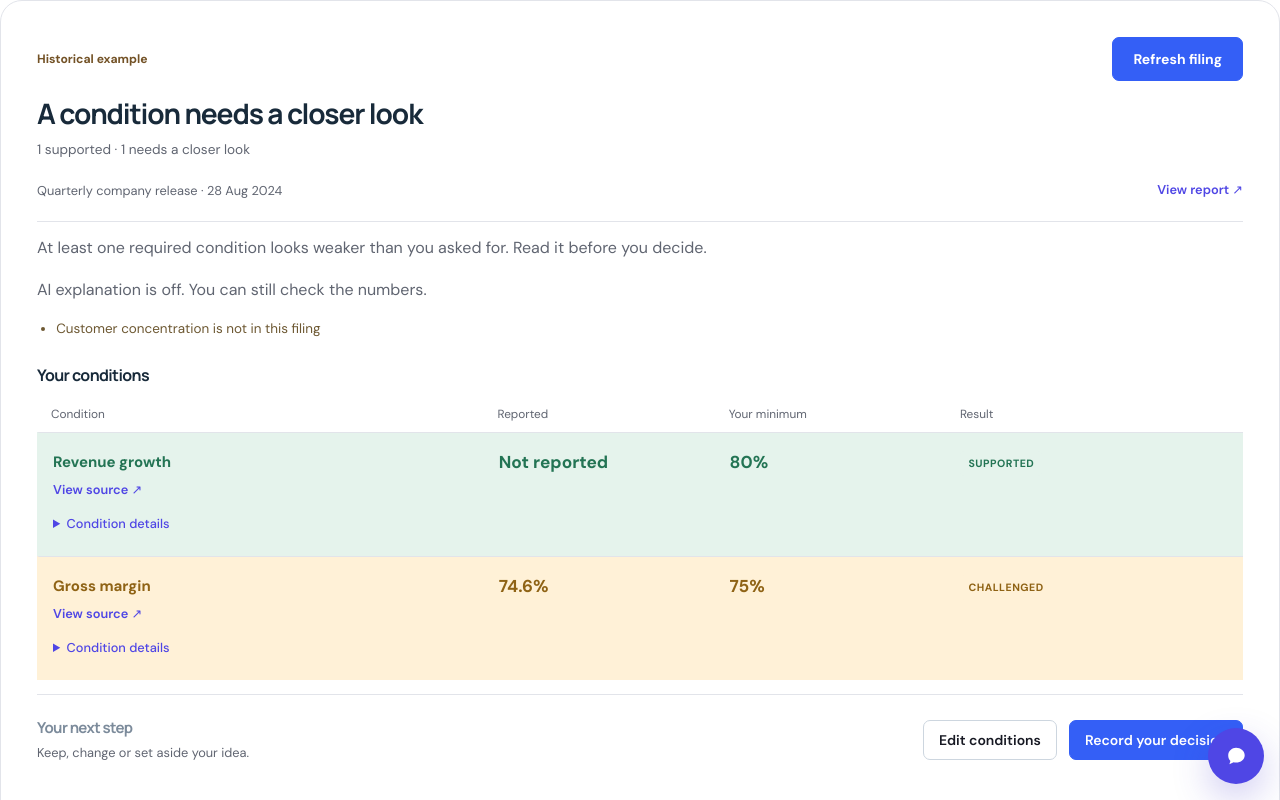
Test: evidence shows the result, findings and selected source before advanced controls
Check: the heading "A condition needs a closer look" is shown, box [37,94,422,132]
Check: the list item "Customer concentration is not in this filing" is shown, box [56,320,320,337]
Click the button with aria-label "View source for Gross margin" at point(98, 614), box [53,602,142,626]
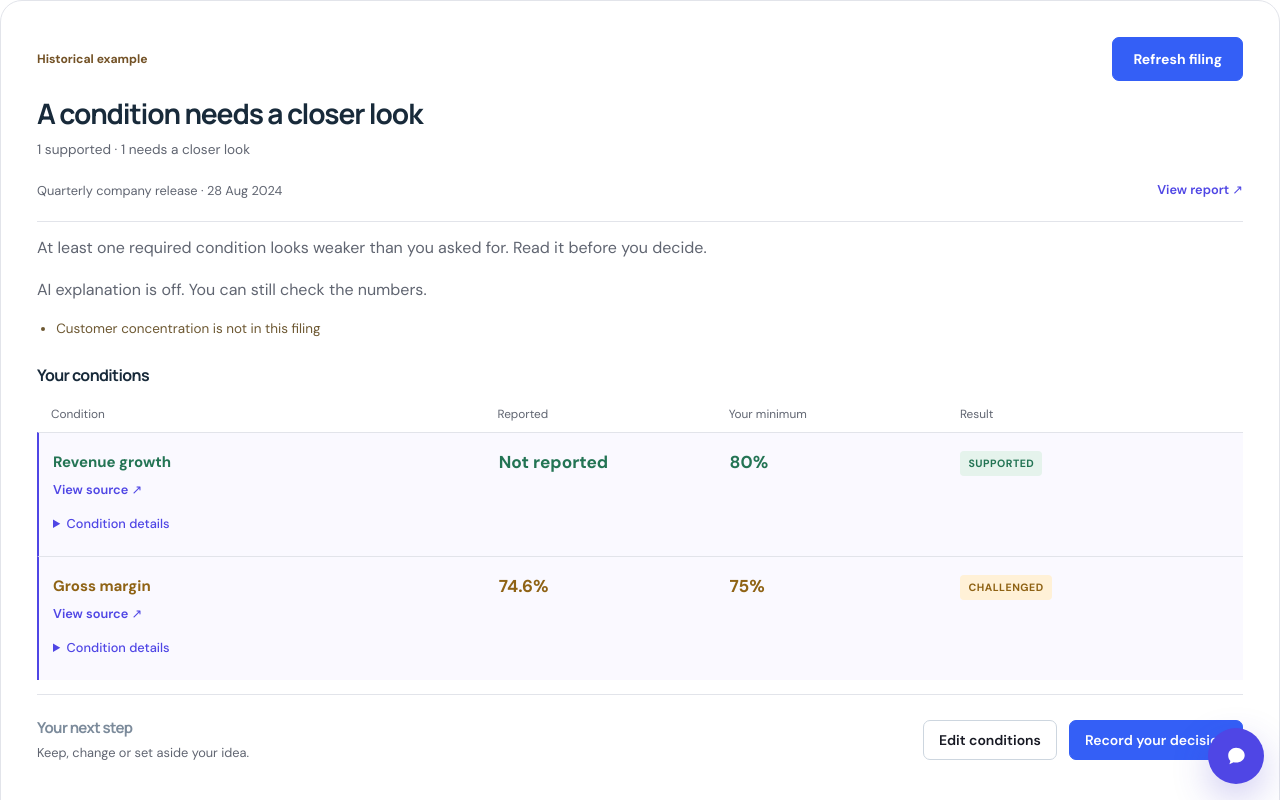
Click the heading "Condition details" below "Gross margin" at point(111, 650), box [53,638,170,662]
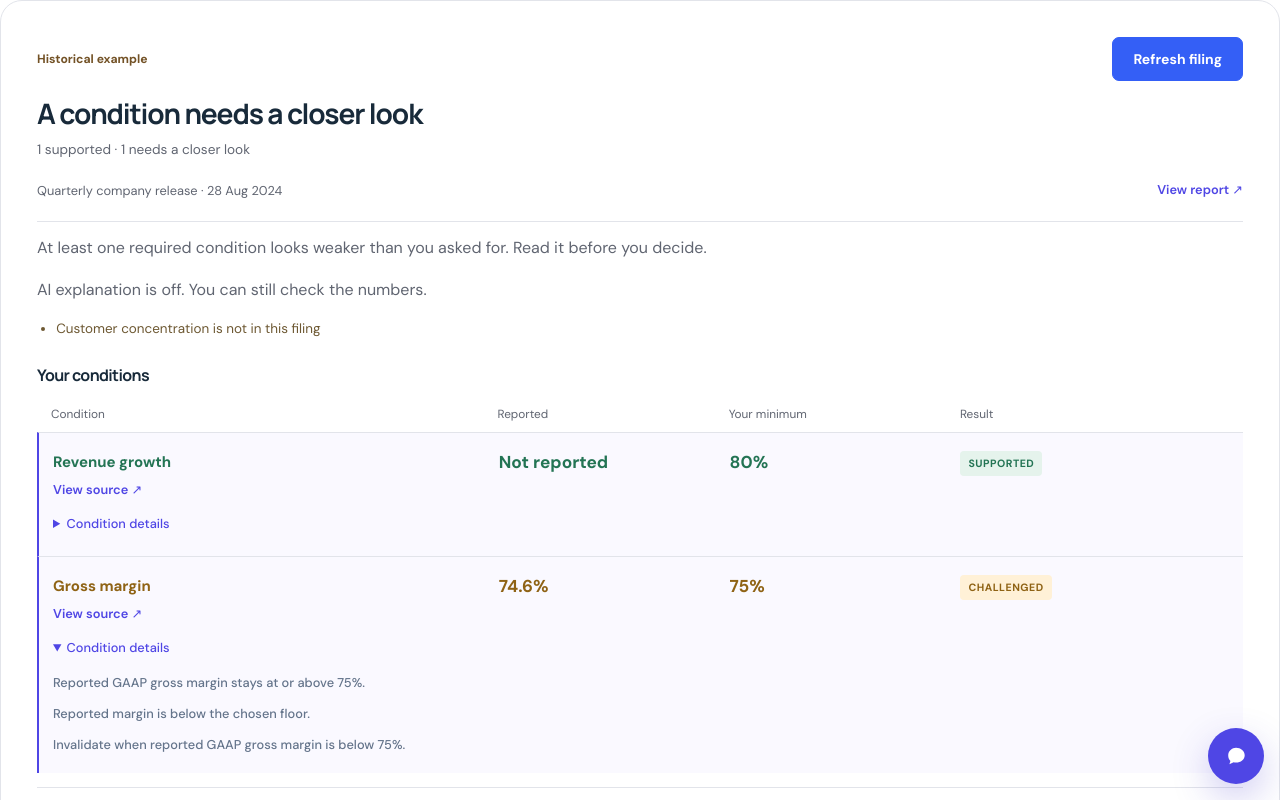
Check: the text "74.6%" is shown, box [499,575,548,597]
Check: the text "Reported margin is below the chosen floor." is shown, box [53,705,310,722]
Click the button named "Ask about this filing" at point(1236, 756), box [1208,728,1264,784]
(page scrolled)
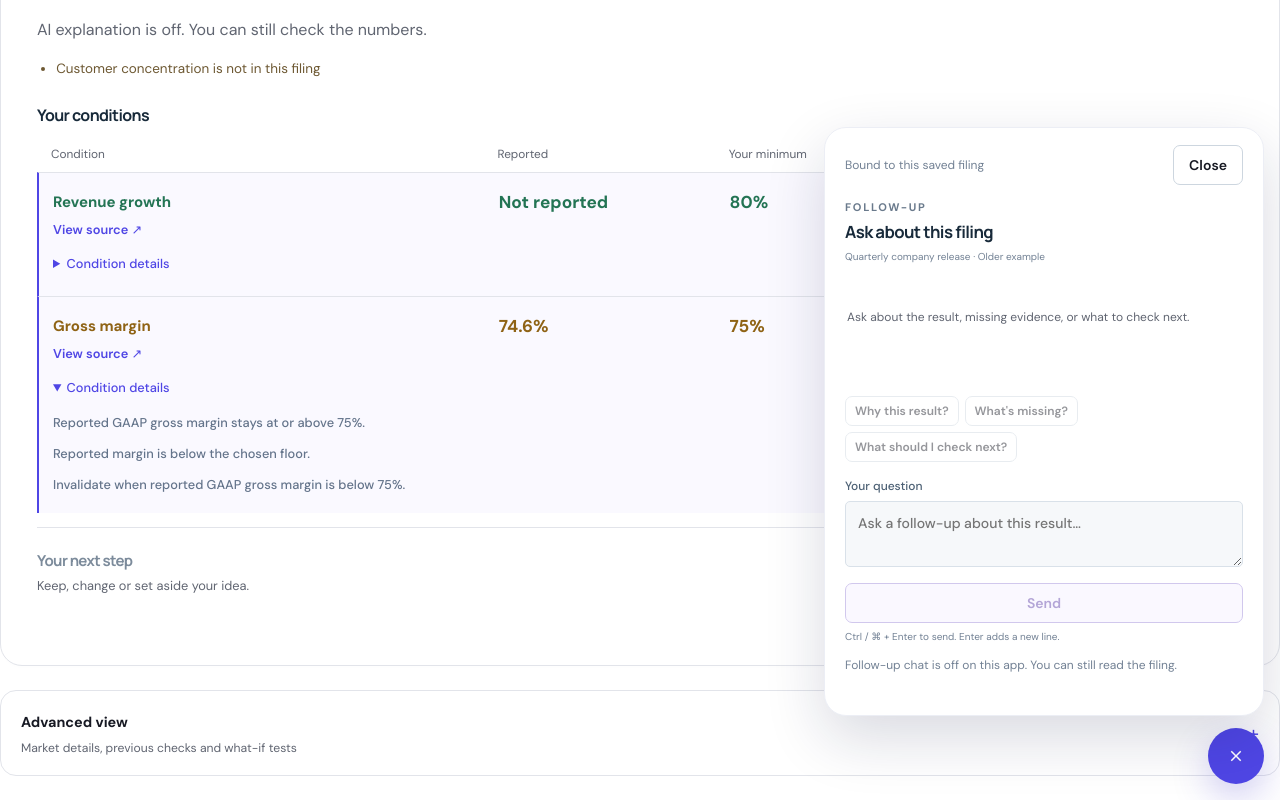
Check: the text "Advanced view" is shown, box [21,713,128,731]
Check: the heading "Ask about this filing" is shown, box [845,220,993,243]
